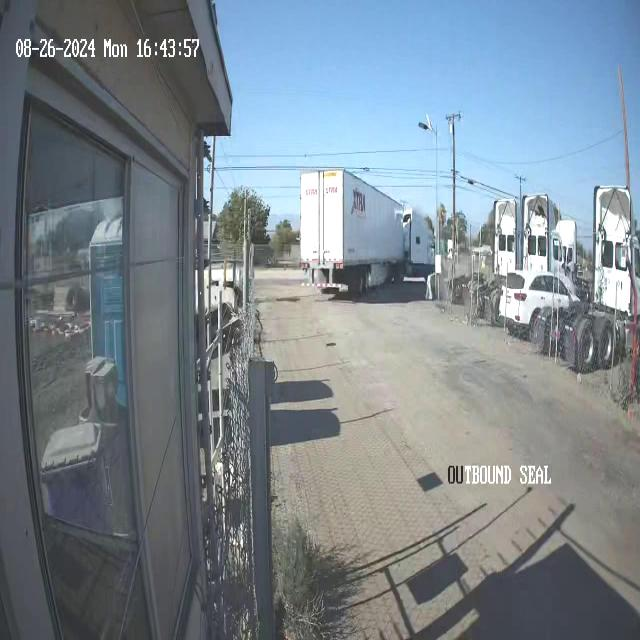CONTAINER: (298, 167, 404, 271)
